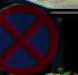No Stopping: (1, 1, 60, 74)
